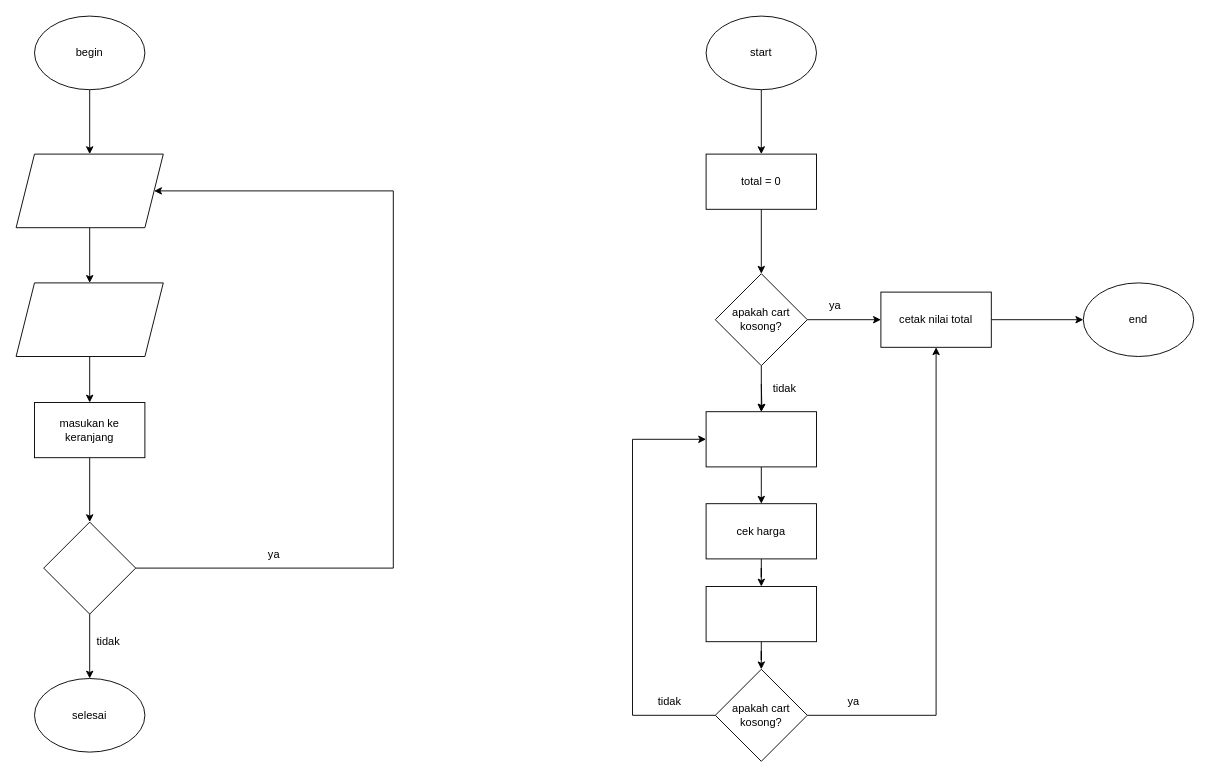
Some shapes in this 1210 by 777 pixel diagram are drawn without their labels. Here are the shapes that lost their labels. From the top down, the box of each, then its label:
(15, 153, 163, 228): input nama product
(15, 282, 163, 356): input harga product
(705, 411, 816, 467): ambil item dari keranjang
(43, 521, 136, 614): masih mau belanja?
(705, 586, 816, 642): total = total + harga
